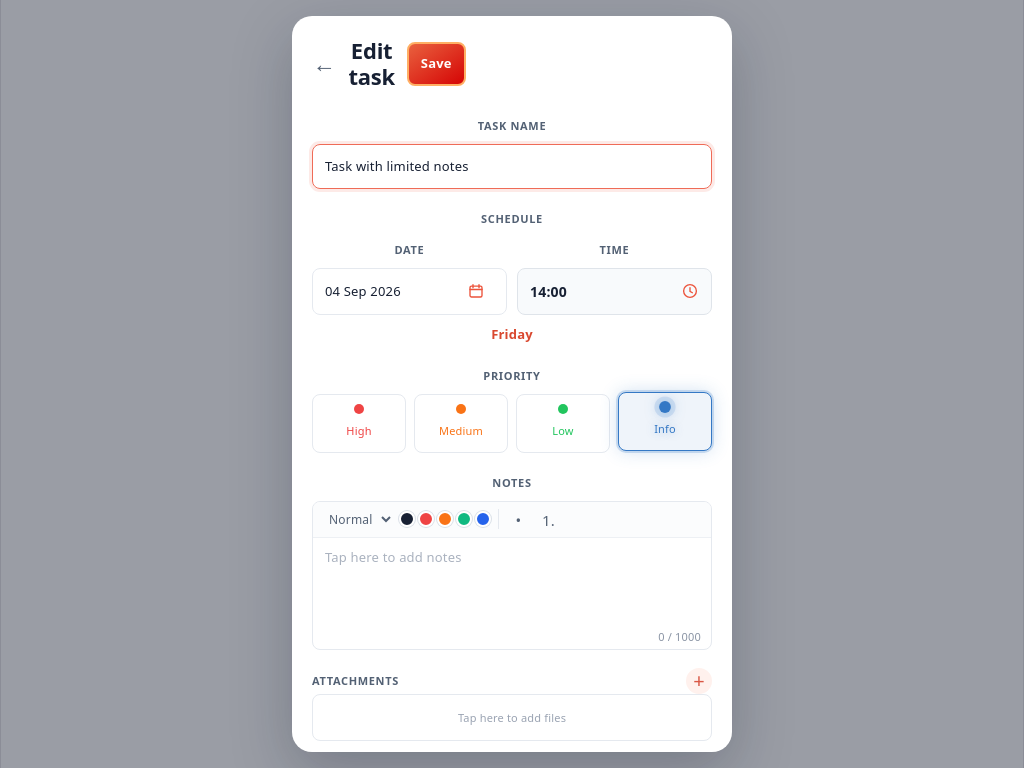
Scenario: clicking the date picker backdrop closes it like Cancel
This screenshot has width=1024, height=768.
Click the field showing "04 Sep 2026".
click(410, 291)  # box [312,268,507,315]
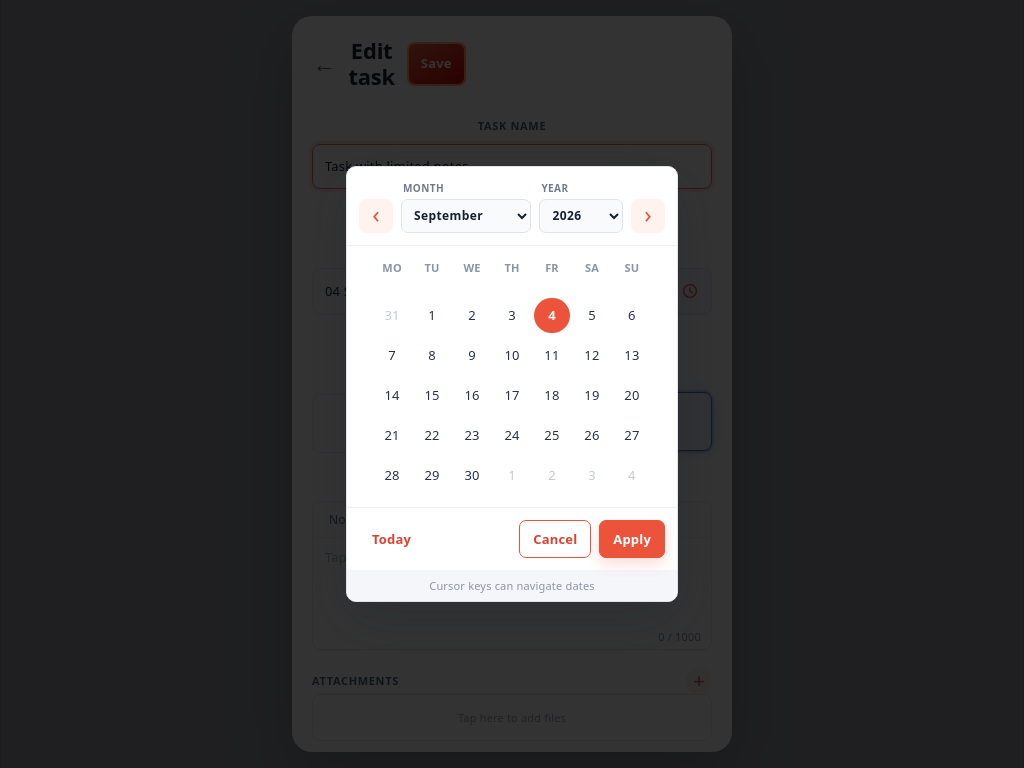
Expected: the element with class "react-datepicker__portal" is shown
Press the mouse on the element with class "react-datepicker__portal" at (512, 384), box [0,0,1023,767]
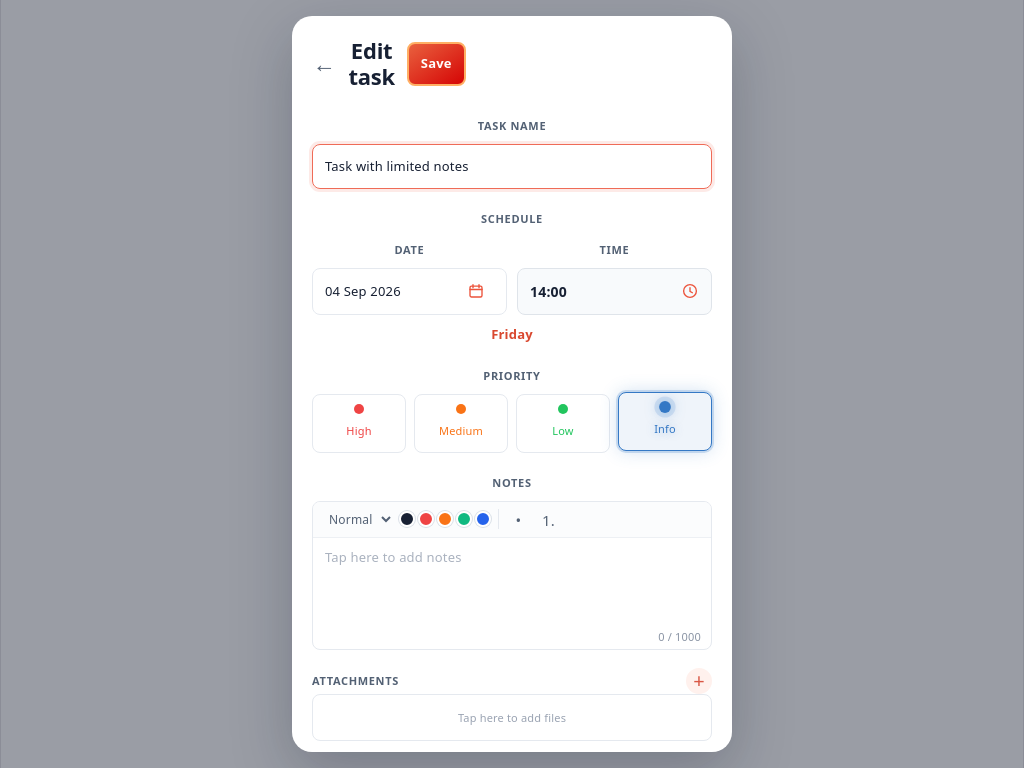
Expected: the field showing "04 Sep 2026" is shown, [312,268,507,315]
Expected: the element with class "react-datepicker__portal" is gone
